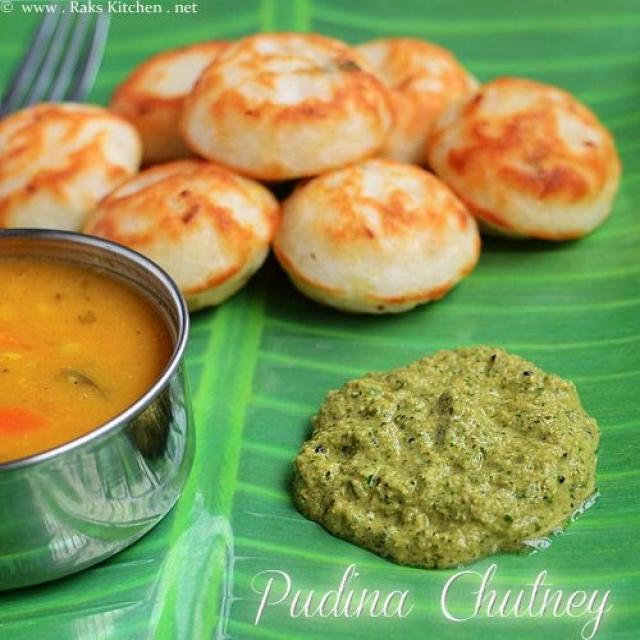puthina chutney: (293, 310, 602, 579)
